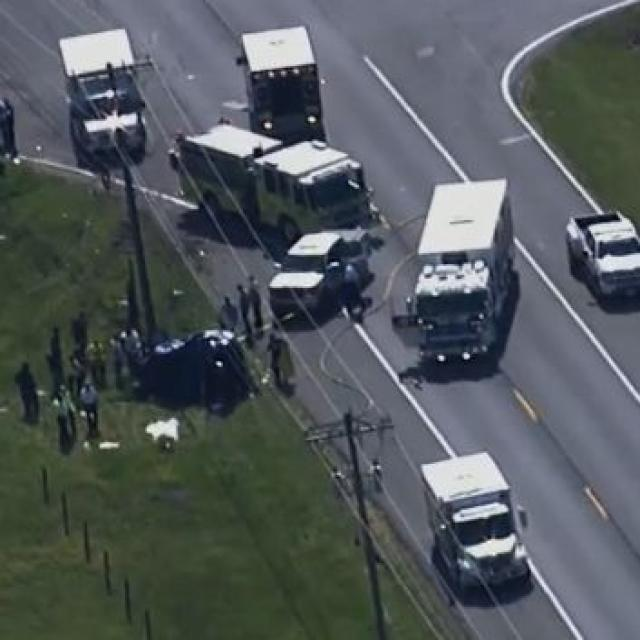traffic_incident: (83, 312, 245, 427)
